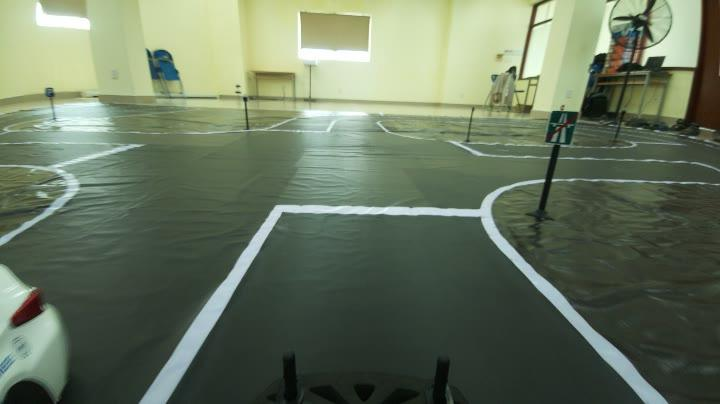highway_exit: (540, 105, 586, 156)
